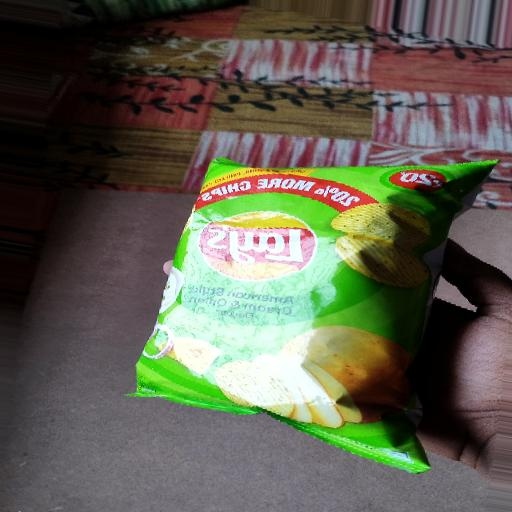Lays Green Small pack (American style cream and onion): (114, 139, 512, 474)
